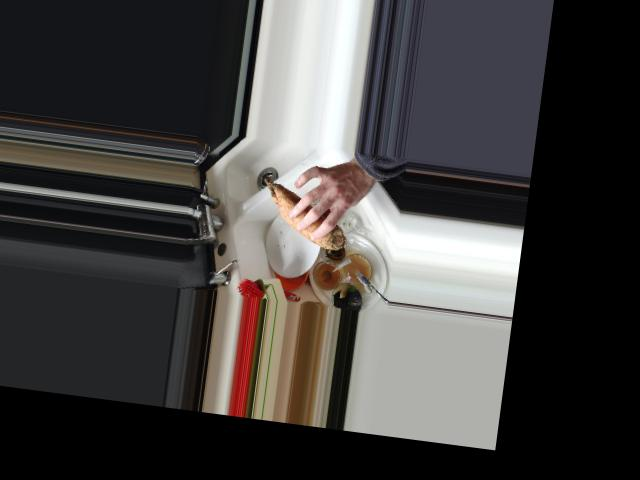sweet_potato: (256, 177, 351, 251)
